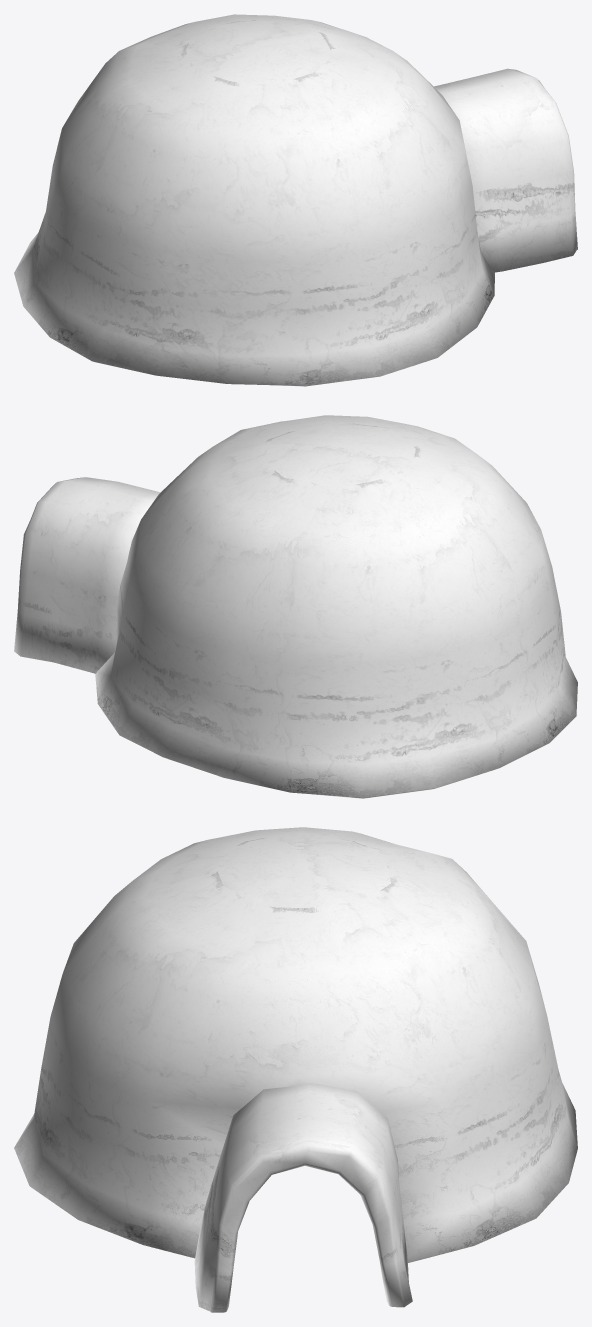
Rendered from igloo_1.obj.
3 renders of one model, top to bottom at view 1: azimuth 30°, elevation 25°; view 2: azimuth 150°, elevation 25°; view 3: azimuth 270°, elevation 25°, orthographic. The views are drawn at different scales.
Parts seen in each view (by area): view 1: Sphere006_Mesh.002; view 2: Sphere006_Mesh.002; view 3: Sphere006_Mesh.002.
Part boxes in pixels (x1,y1,x2,y2): Sphere006_Mesh.002: [14, 14, 577, 386]; Sphere006_Mesh.002: [14, 415, 577, 798]; Sphere006_Mesh.002: [14, 827, 577, 1312].
Bounding box in the file's own units: 5.46 × 2.63 × 4.62.
Materials: 1 (1 with a texture image).
